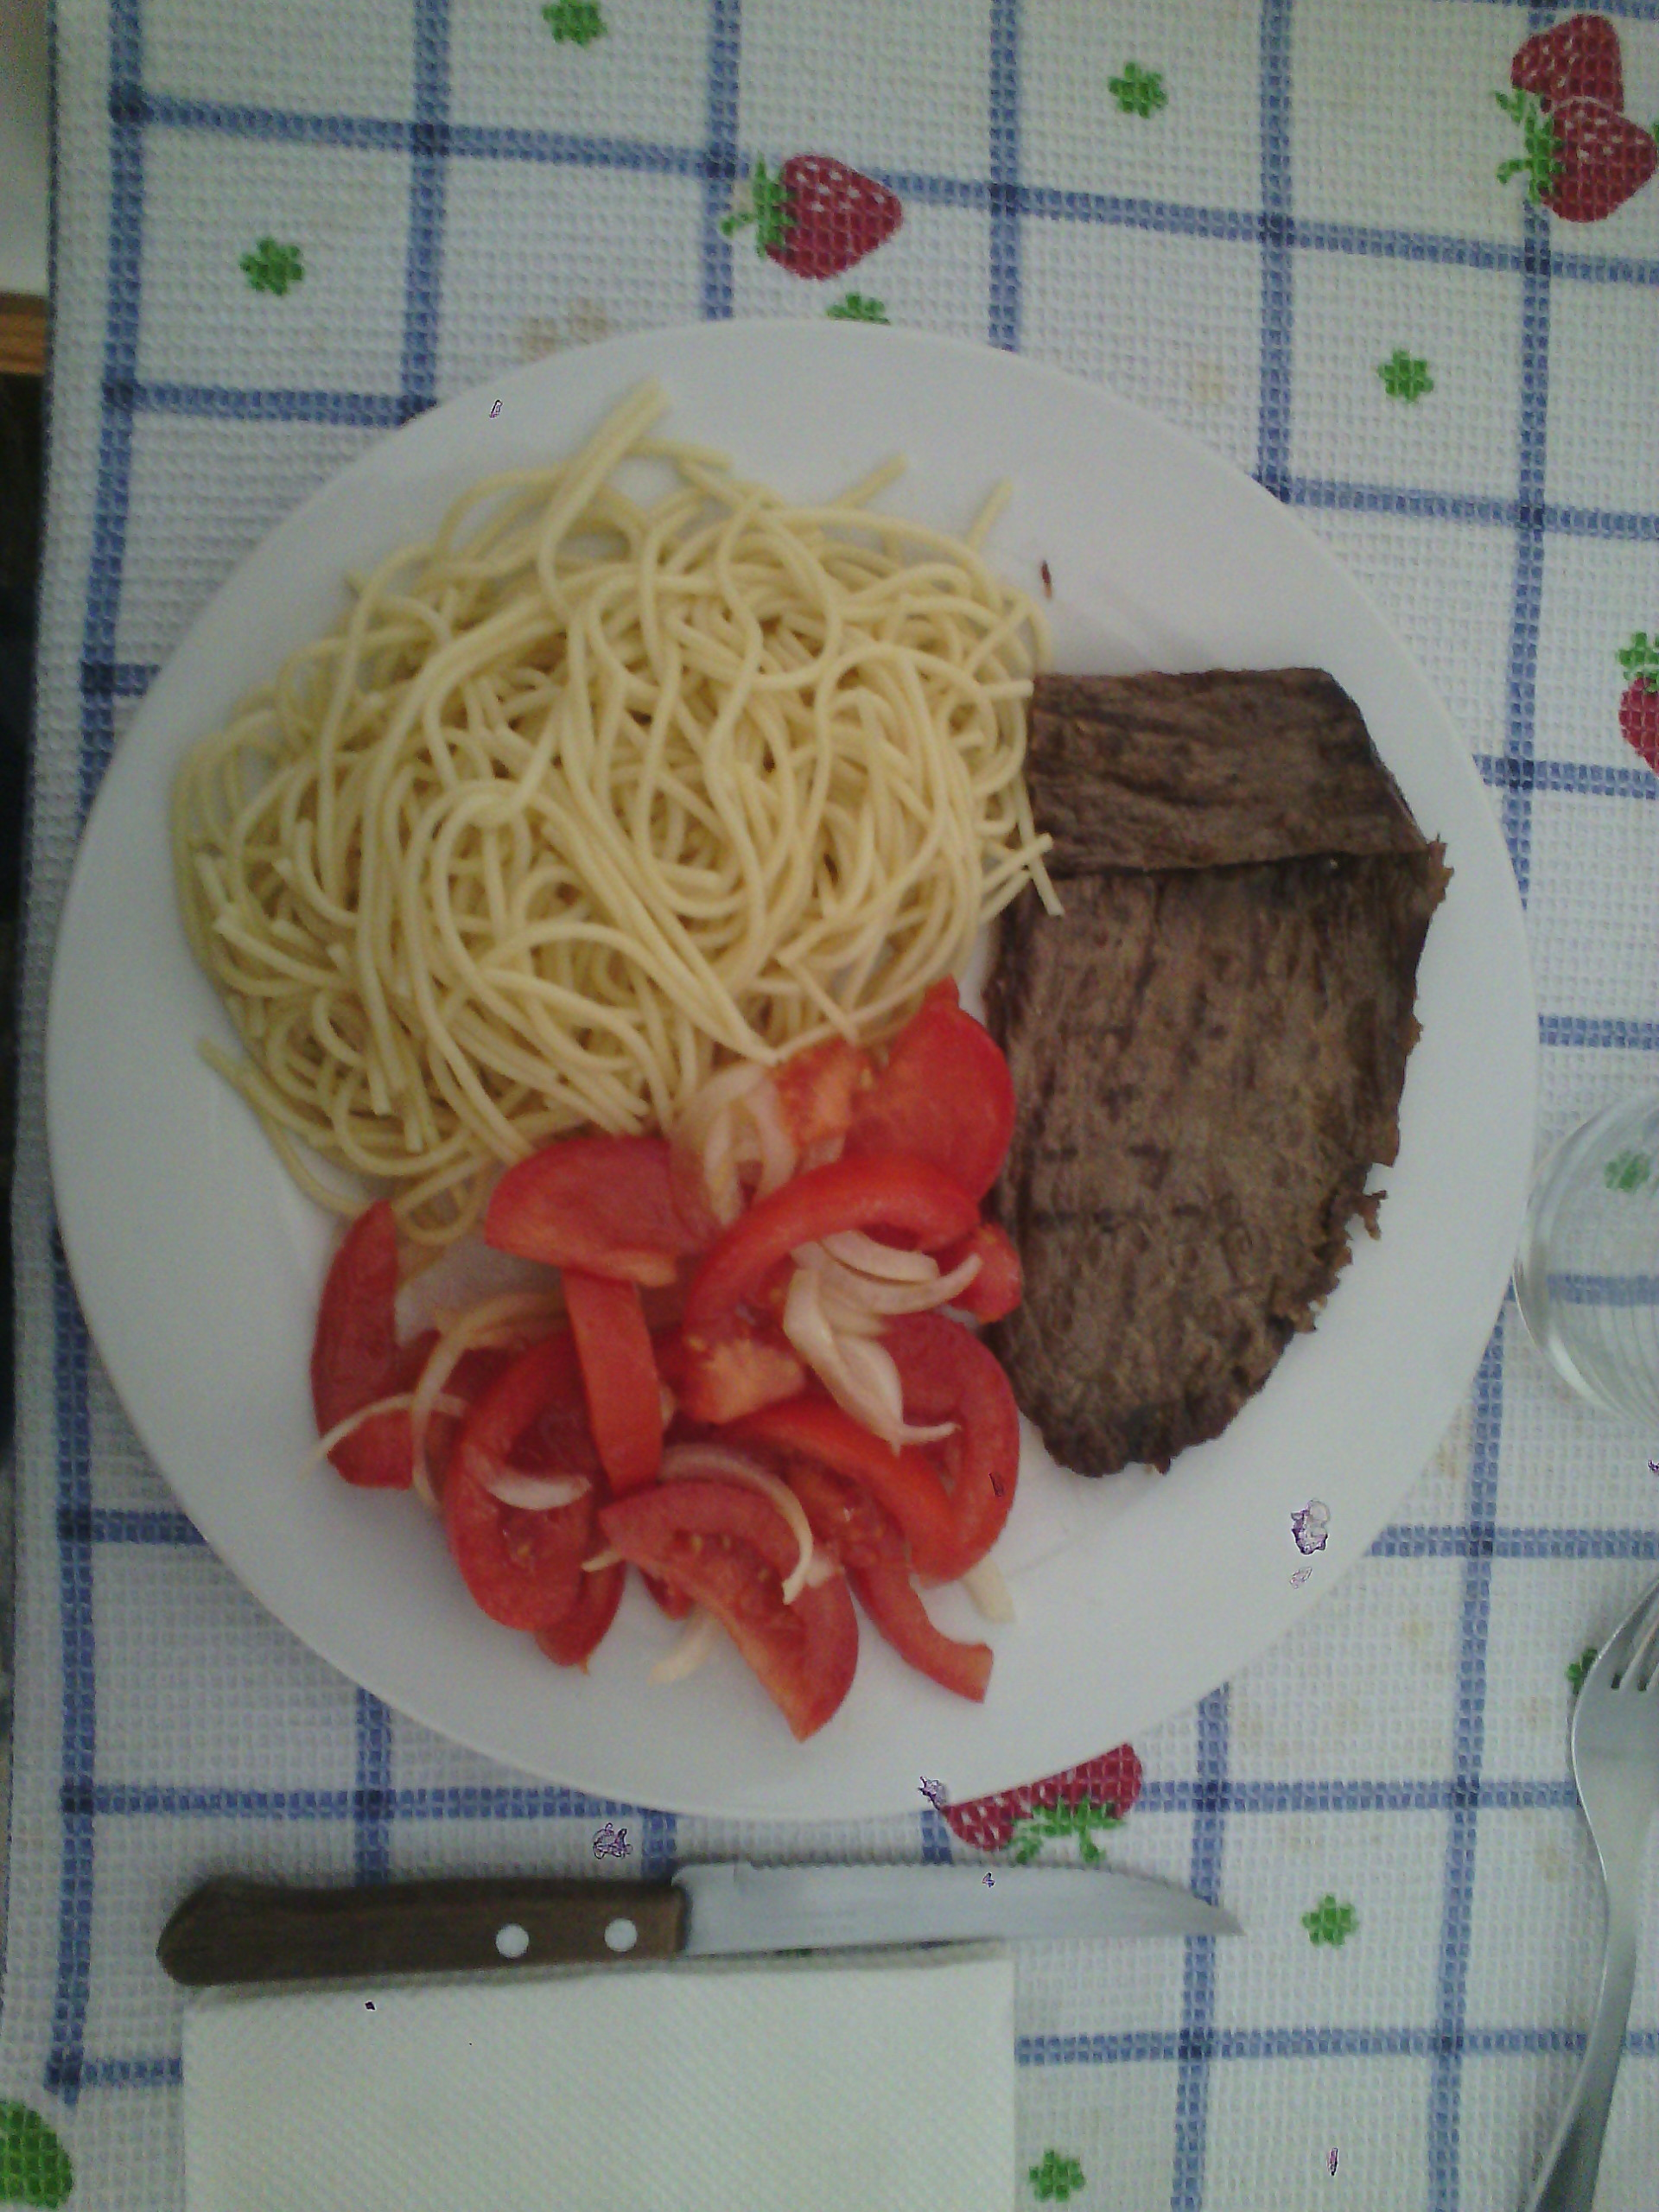81-100: (54, 326, 1554, 1836)
